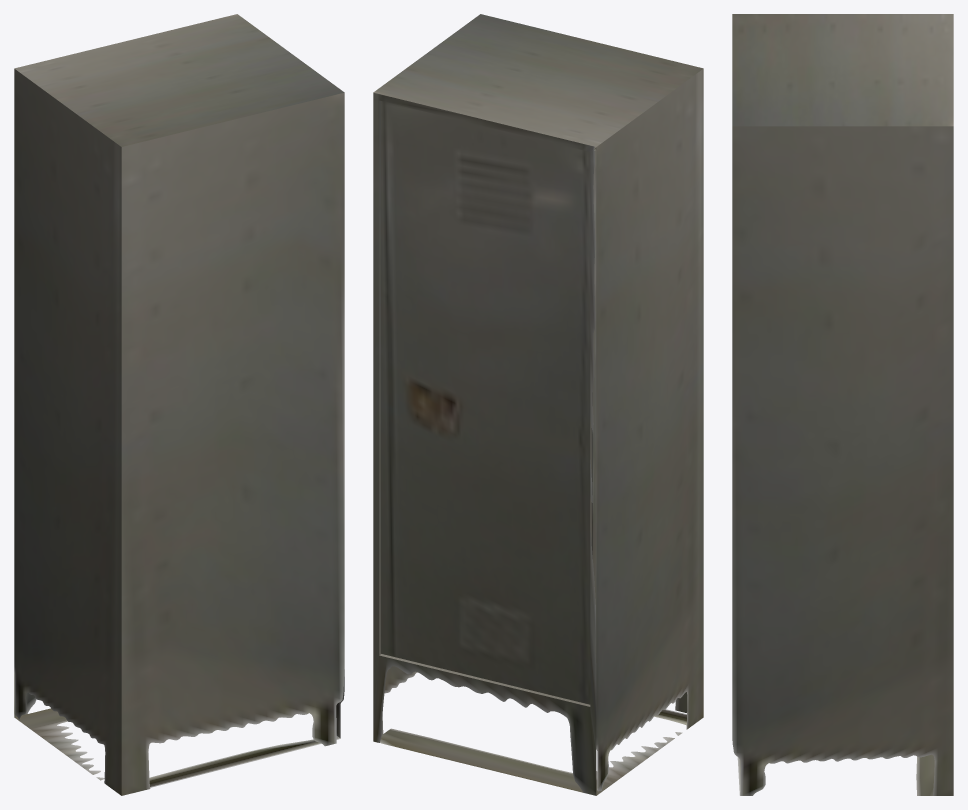
File: CabinetFbx.fbx
3 renders of one model, left to right at view 1: azimuth 30°, elevation 25°; view 2: azimuth 150°, elevation 25°; view 3: azimuth 270°, elevation 25°, orthographic. The views are drawn at different scales.
Parts seen in each view (by area): view 1: Cabinet; view 2: Door, Cabinet; view 3: Cabinet.
Part boxes in pixels (x1,y1,x2,y2): Cabinet: (14,14,344,795); Door: (380,101,596,704); Cabinet: (373,14,703,795); Cabinet: (732,14,953,795).
Size of the model in its own units: 144 by 400 by 120.
